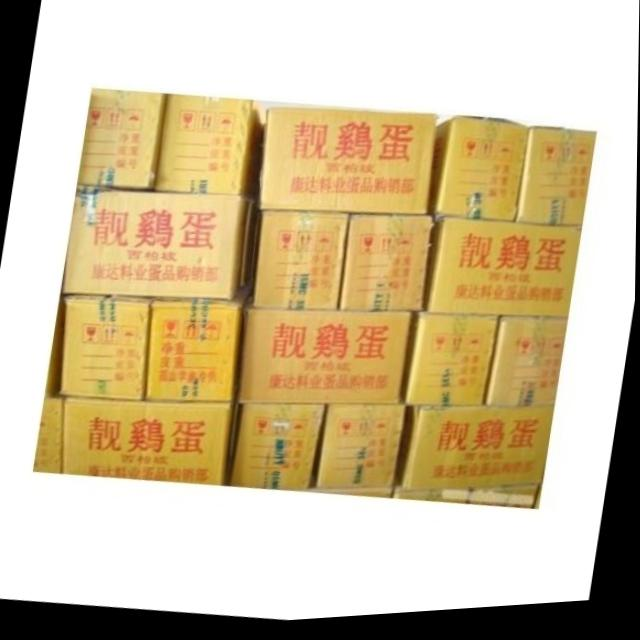box: (64, 186, 258, 303), (257, 113, 443, 220), (241, 299, 417, 410), (427, 222, 583, 324), (63, 400, 239, 489), (399, 412, 556, 496), (145, 285, 254, 405), (156, 97, 265, 197), (430, 120, 529, 229), (61, 297, 159, 401), (254, 213, 351, 314), (404, 316, 501, 412), (79, 91, 168, 192), (342, 218, 433, 316), (228, 407, 330, 494), (515, 135, 599, 235), (315, 409, 410, 492), (488, 322, 571, 414), (394, 485, 543, 515), (34, 392, 66, 475), (46, 295, 65, 397), (311, 491, 397, 504)
